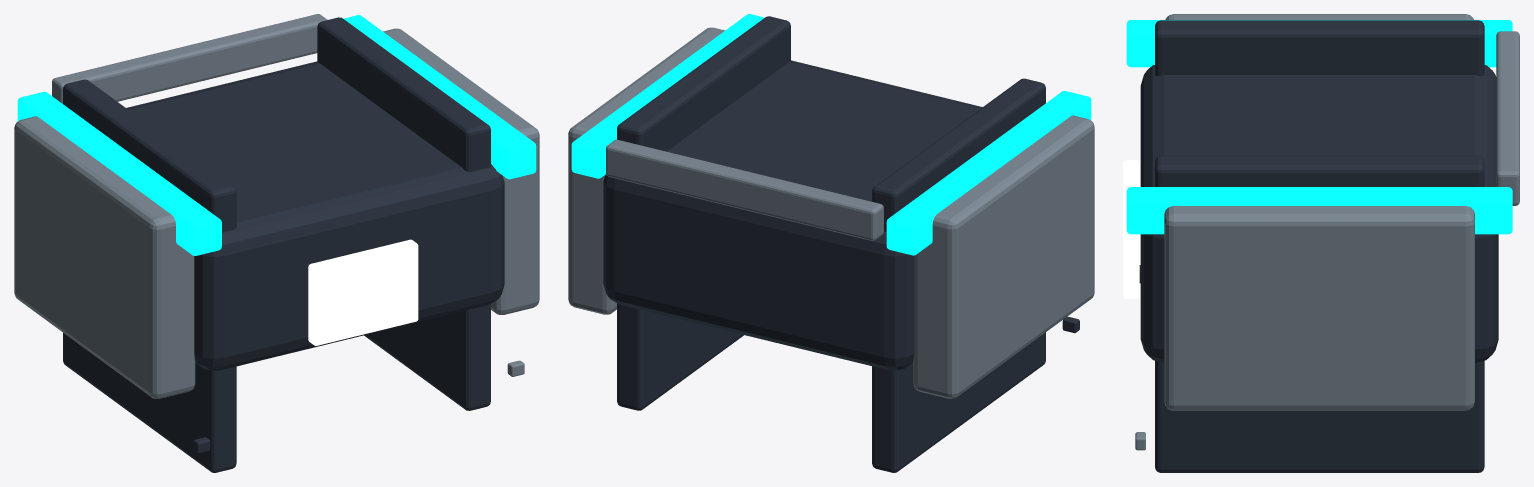
The model's file is connector_techtown-charging-transit-tube-short-straight-standard-028.glb.
3 renders of one model, left to right at view 1: azimuth 30°, elevation 25°; view 2: azimuth 150°, elevation 25°; view 3: azimuth 270°, elevation 25°, orthographic. The views are drawn at different scales.
Parts seen in each view (by area): view 1: component__primary_structural_span__primary_span, component__start_connection_socket__start_socket, component__load_bearing_frame__frame_post, component__load_bearing_frame__frame_post.001, component__service_access__service_access, component__lod_preserved_silhouette__lod_silhouette, component__end_connection_socket__end_socket, component__seal_or_transition_trim__transition_trim.001, component__seal_or_transition_trim__transition_trim; view 2: component__primary_structural_span__primary_span, component__start_connection_socket__start_socket, component__load_bearing_frame__frame_post, component__load_bearing_frame__frame_post.001, component__lod_preserved_silhouette__lod_silhouette, component__end_connection_socket__end_socket, component__seal_or_transition_trim__transition_trim.001, component__seal_or_transition_trim__transition_trim; view 3: component__end_connection_socket__end_socket, component__primary_structural_span__primary_span, component__load_bearing_frame__frame_post, component__load_bearing_frame__frame_post.001, component__seal_or_transition_trim__transition_trim, component__lod_preserved_silhouette__lod_silhouette, component__seal_or_transition_trim__transition_trim.001, component__start_connection_socket__start_socket, component__service_access__service_access.
Part boxes in pixels (x1=…): component__primary_structural_span__primary_span: x1=126, y1=61, x2=504, y2=370; component__start_connection_socket__start_socket: x1=14, y1=116, x2=195, y2=398; component__load_bearing_frame__frame_post: x1=317, y1=17, x2=490, y2=410; component__load_bearing_frame__frame_post.001: x1=63, y1=79, x2=236, y2=472; component__service_access__service_access: x1=308, y1=239, x2=418, y2=345; component__lod_preserved_silhouette__lod_silhouette: x1=52, y1=14, x2=327, y2=103; component__end_connection_socket__end_socket: x1=383, y1=28, x2=539, y2=314; component__seal_or_transition_trim__transition_trim.001: x1=17, y1=91, x2=221, y2=255; component__seal_or_transition_trim__transition_trim: x1=343, y1=15, x2=536, y2=179; component__primary_structural_span__primary_span: x1=603, y1=60, x2=982, y2=370; component__start_connection_socket__start_socket: x1=913, y1=115, x2=1094, y2=398; component__load_bearing_frame__frame_post: x1=617, y1=16, x2=790, y2=410; component__load_bearing_frame__frame_post.001: x1=872, y1=78, x2=1045, y2=472; component__lod_preserved_silhouette__lod_silhouette: x1=606, y1=139, x2=883, y2=240; component__end_connection_socket__end_socket: x1=568, y1=27, x2=724, y2=314; component__seal_or_transition_trim__transition_trim.001: x1=886, y1=91, x2=1091, y2=255; component__seal_or_transition_trim__transition_trim: x1=571, y1=14, x2=764, y2=178; component__end_connection_socket__end_socket: x1=1164, y1=206, x2=1474, y2=410; component__primary_structural_span__primary_span: x1=1140, y1=65, x2=1498, y2=362; component__load_bearing_frame__frame_post: x1=1155, y1=155, x2=1484, y2=472; component__load_bearing_frame__frame_post.001: x1=1155, y1=20, x2=1484, y2=76; component__seal_or_transition_trim__transition_trim: x1=1126, y1=187, x2=1512, y2=234; component__lod_preserved_silhouette__lod_silhouette: x1=1496, y1=31, x2=1519, y2=205; component__seal_or_transition_trim__transition_trim.001: x1=1126, y1=20, x2=1512, y2=67; component__start_connection_socket__start_socket: x1=1165, y1=14, x2=1473, y2=19; component__service_access__service_access: x1=1123, y1=160, x2=1139, y2=298.
Size of what is drawn, in the model's own units: 2.08 by 1.44 by 1.69.
